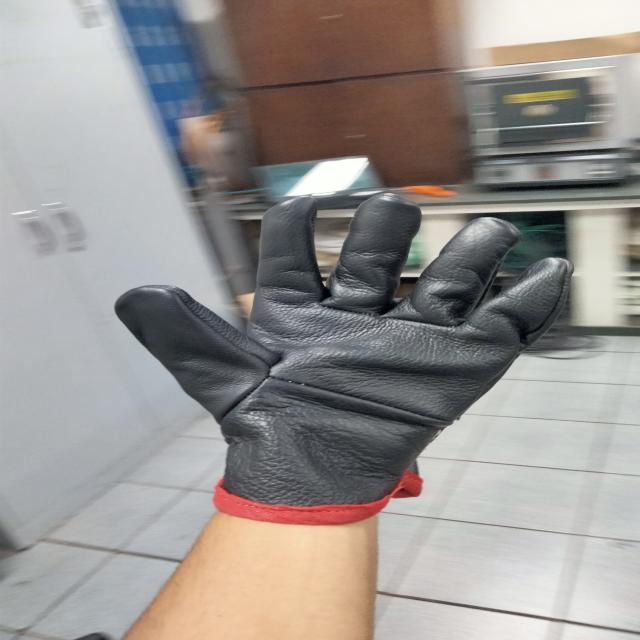Gloves: (123, 190, 559, 522)
